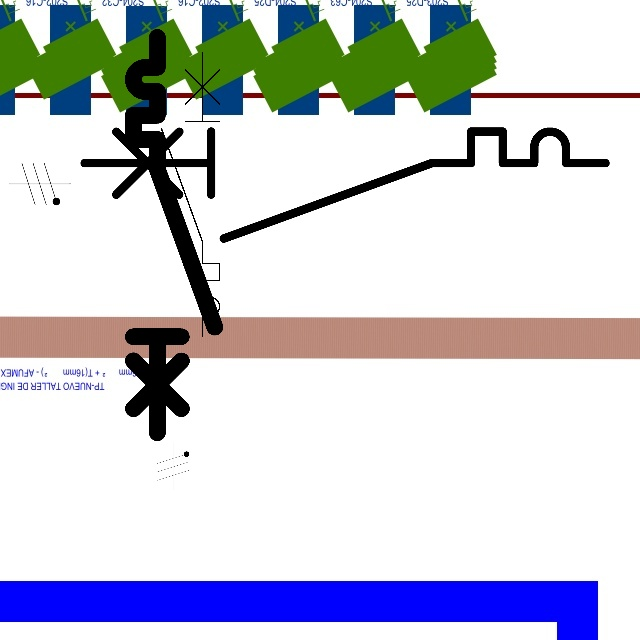interruptor_termomagnetico: (71, 118, 619, 252), (123, 27, 225, 443), (154, 45, 227, 344)
